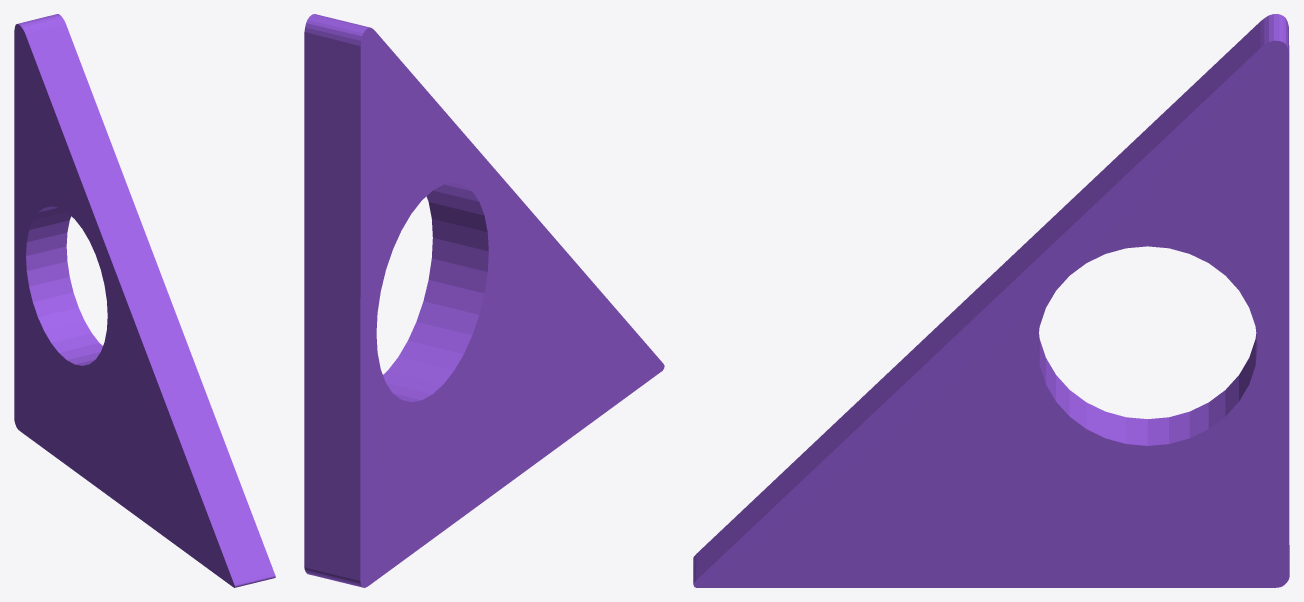
The model's file is dorito_pivot.fbx.
The picture shows the model from 3 angles, left to right: view 1: azimuth 30°, elevation 25°; view 2: azimuth 150°, elevation 25°; view 3: azimuth 270°, elevation 25°; orthographic projection. The views are drawn at different scales.
Parts seen in each view (by area): view 1: Cube; view 2: Cube; view 3: Cube.
Part boxes in pixels (x1,y1,x2,y2): Cube: (14,14,275,587); Cube: (304,14,664,587); Cube: (693,14,1289,587).
Bounding box in the file's own units: 0.5132 × 4.79 × 4.72.
